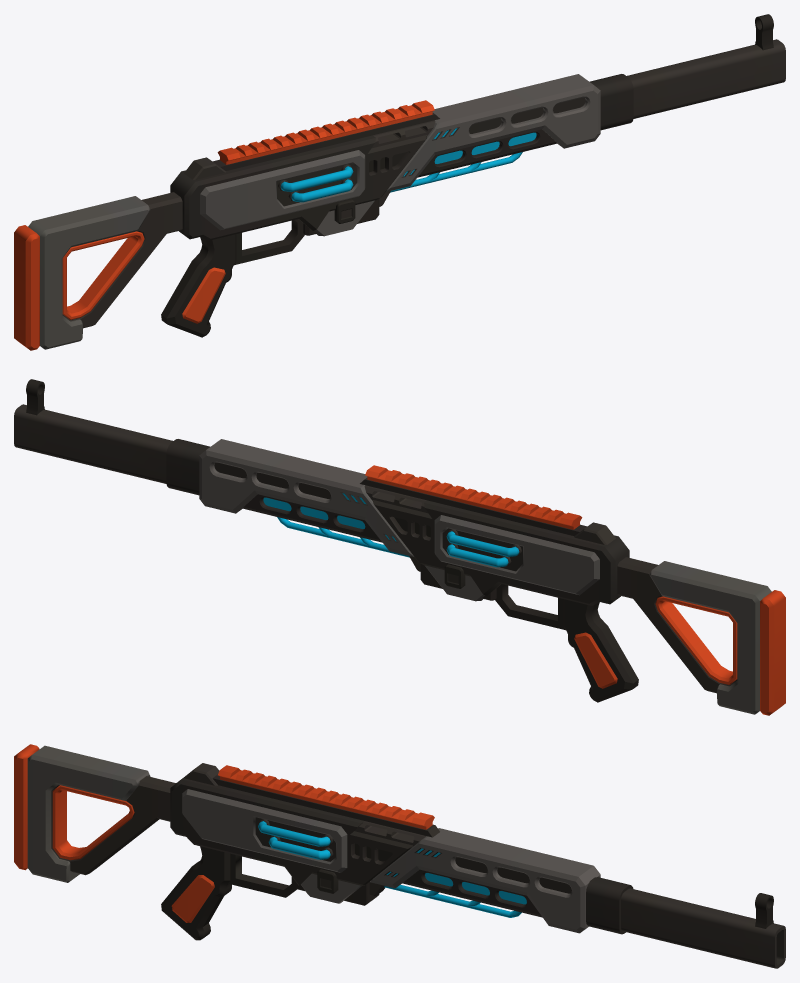
3 renders of one model, top to bottom at view 1: azimuth 30°, elevation 25°; view 2: azimuth 150°, elevation 25°; view 3: azimuth 330°, elevation 25°, orthographic.
Visible parts, largest first — view 1: SR4_Base; view 2: SR4_Base; view 3: SR4_Base.
Part boxes in pixels (left/top/right/bottom): SR4_Base: left=14, top=14, right=785, bottom=350; SR4_Base: left=14, top=379, right=785, bottom=715; SR4_Base: left=14, top=744, right=785, bottom=968.
Size of the model in its own units: 105 by 23.97 by 7.67.
